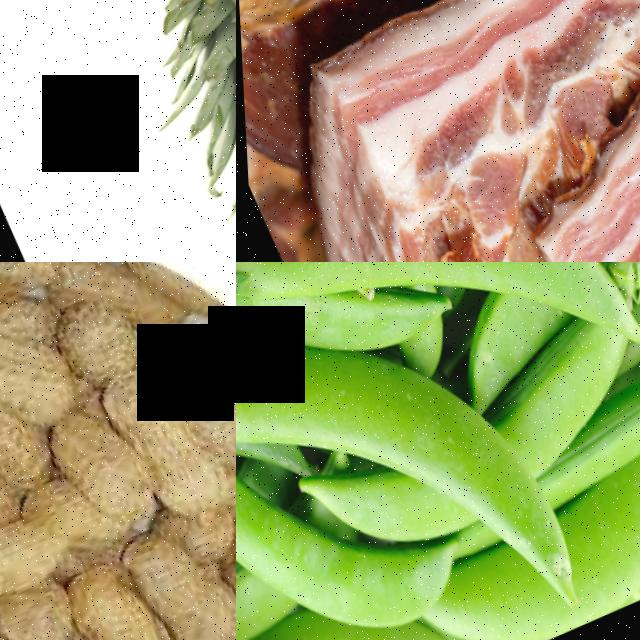peanuts: (101, 362, 222, 531), (0, 475, 116, 615), (117, 516, 236, 640)
pineapple: (0, 0, 236, 110)
pork belly: (242, 4, 607, 262), (416, 0, 640, 167), (493, 12, 640, 262)
